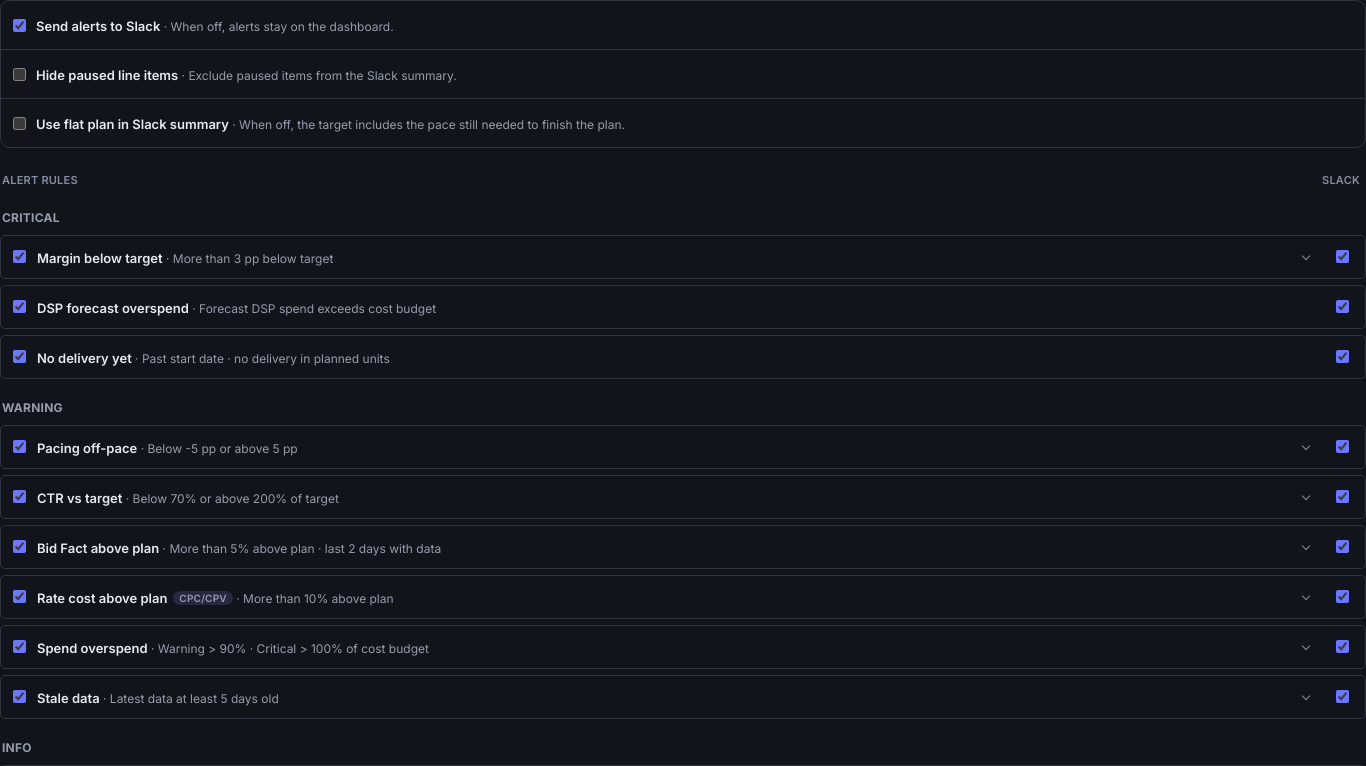
PacingAlertsSection › shows the stored thresholds rather than the defaults
The threshold field now lives in the rule's popover - opened by clicking the row.
Click the button with aria-label "Edit Stale data".
click(68, 698)  # box [37,676,1319,718]
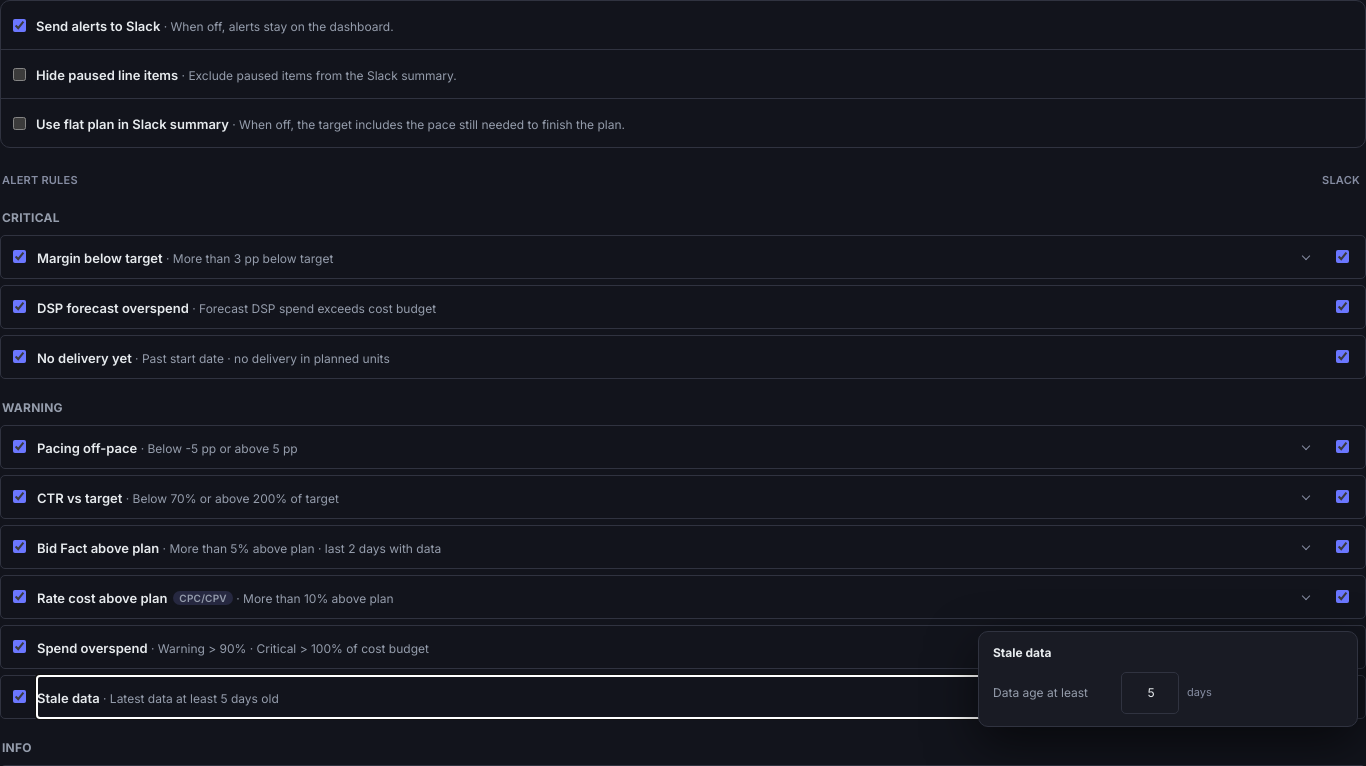
Now the number field named "Stale data threshold, days" holds "5", box [1121,672,1179,714]
